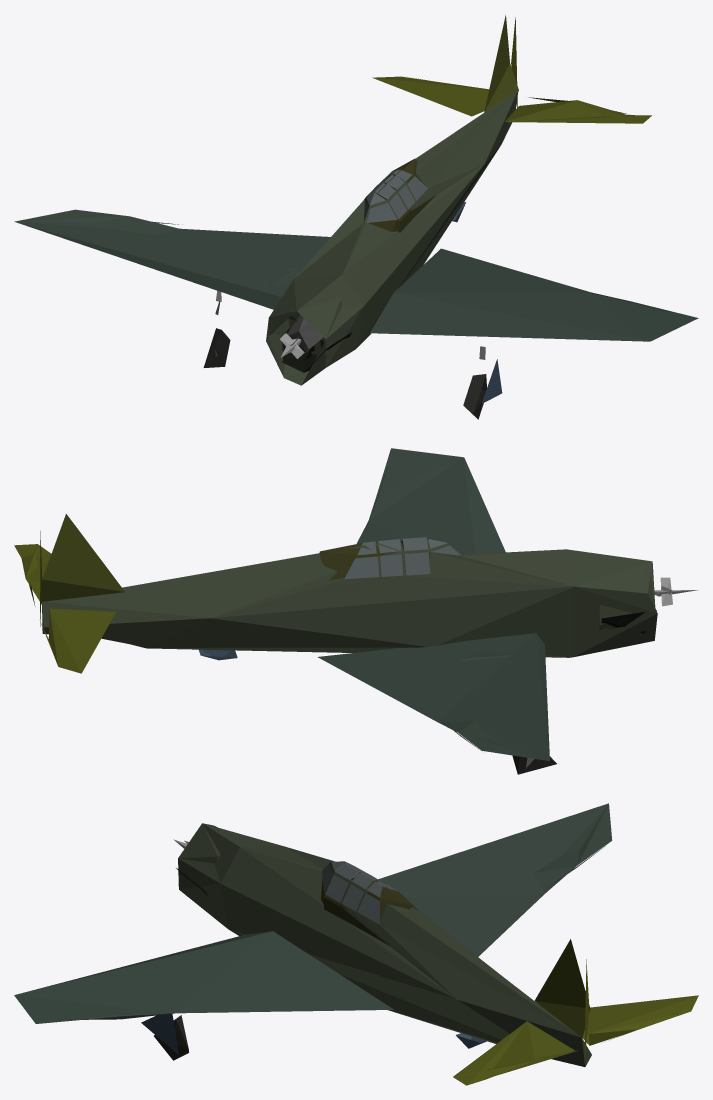
The picture shows the model from 3 angles, top to bottom: view 1: azimuth 30°, elevation 25°; view 2: azimuth 150°, elevation 25°; view 3: azimuth 270°, elevation 25°; orthographic projection. The views are drawn at different scales.
Parts seen in each view (by area): view 1: Tube06-FACES, Tube07-FACES; view 2: Tube06-FACES, Tube07-FACES; view 3: Tube06-FACES, Tube07-FACES.
Part boxes in pixels (x1=…): Tube06-FACES: x1=14, y1=15, x2=698, y2=419; Tube07-FACES: x1=215, y1=158, x2=485, y2=359; Tube06-FACES: x1=14, y1=448, x2=657, y2=774; Tube07-FACES: x1=319, y1=537, x2=697, y2=606; Tube06-FACES: x1=14, y1=803, x2=698, y2=1085; Tube07-FACES: x1=173, y1=839, x2=418, y2=945.
Bounding box in the file's own units: 10.98 × 4 × 10.63.
